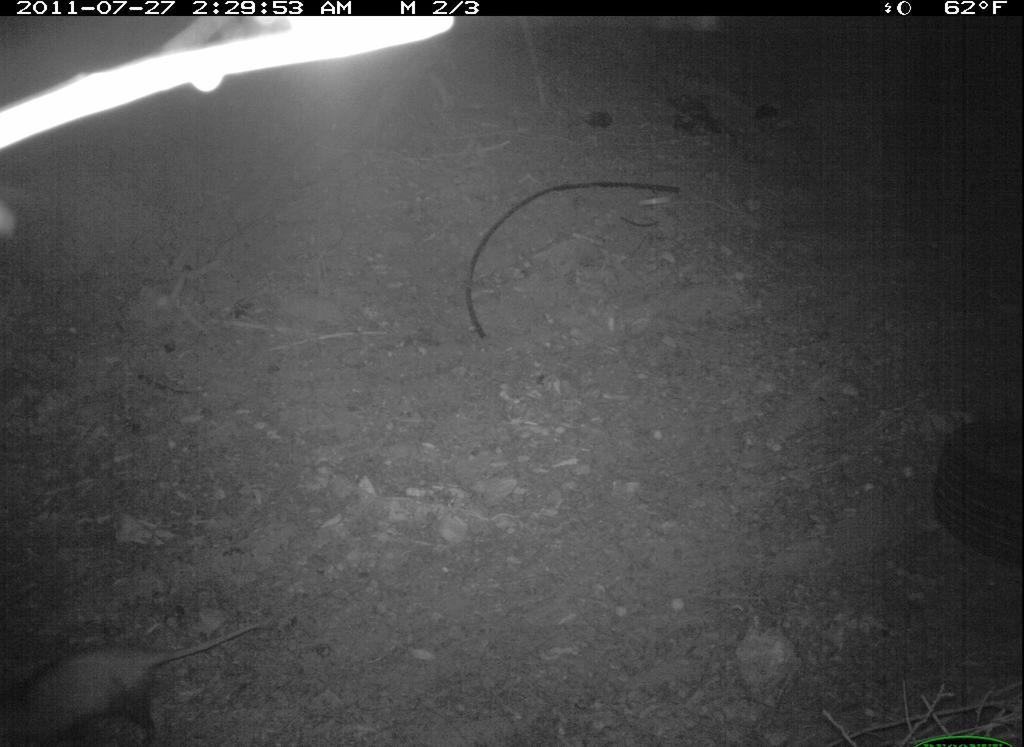opossum: (1, 614, 278, 747)
